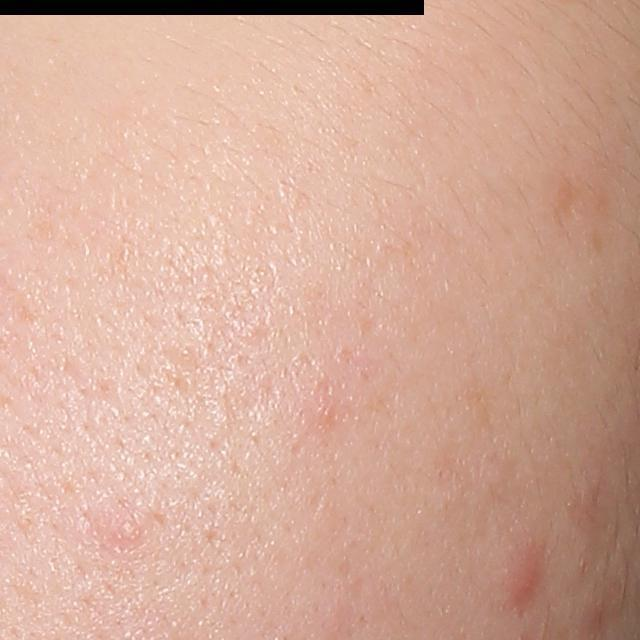papule: (495, 546, 542, 608)
